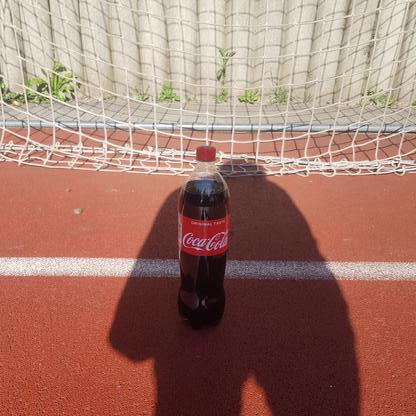coca-cola: (175, 145, 233, 334)
